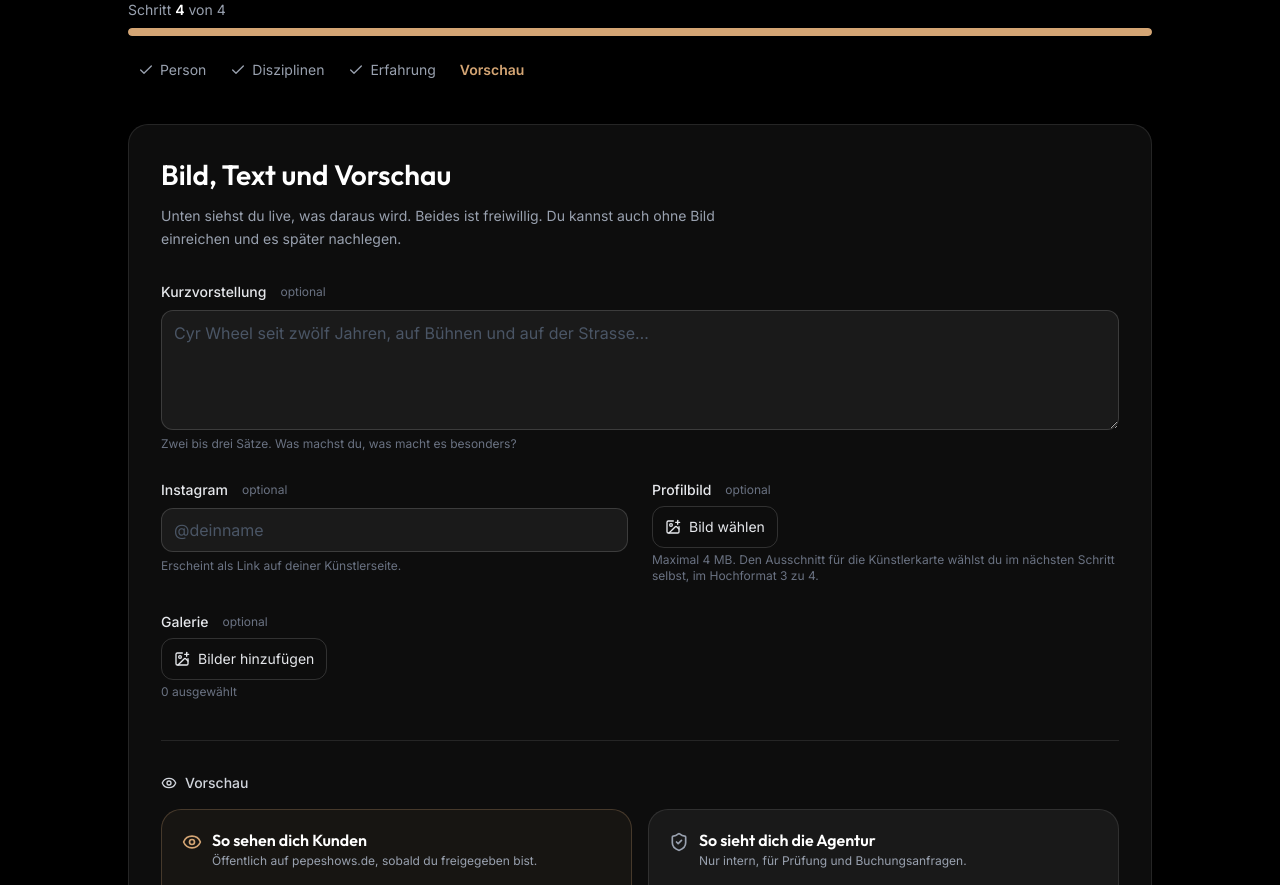
it: ProfileWizard › sperrt das Einreichen, solange eine Pflichtangabe fehlt
Click the button "Person" at (172, 70), box top-left (128, 48), bottom-right (216, 92)
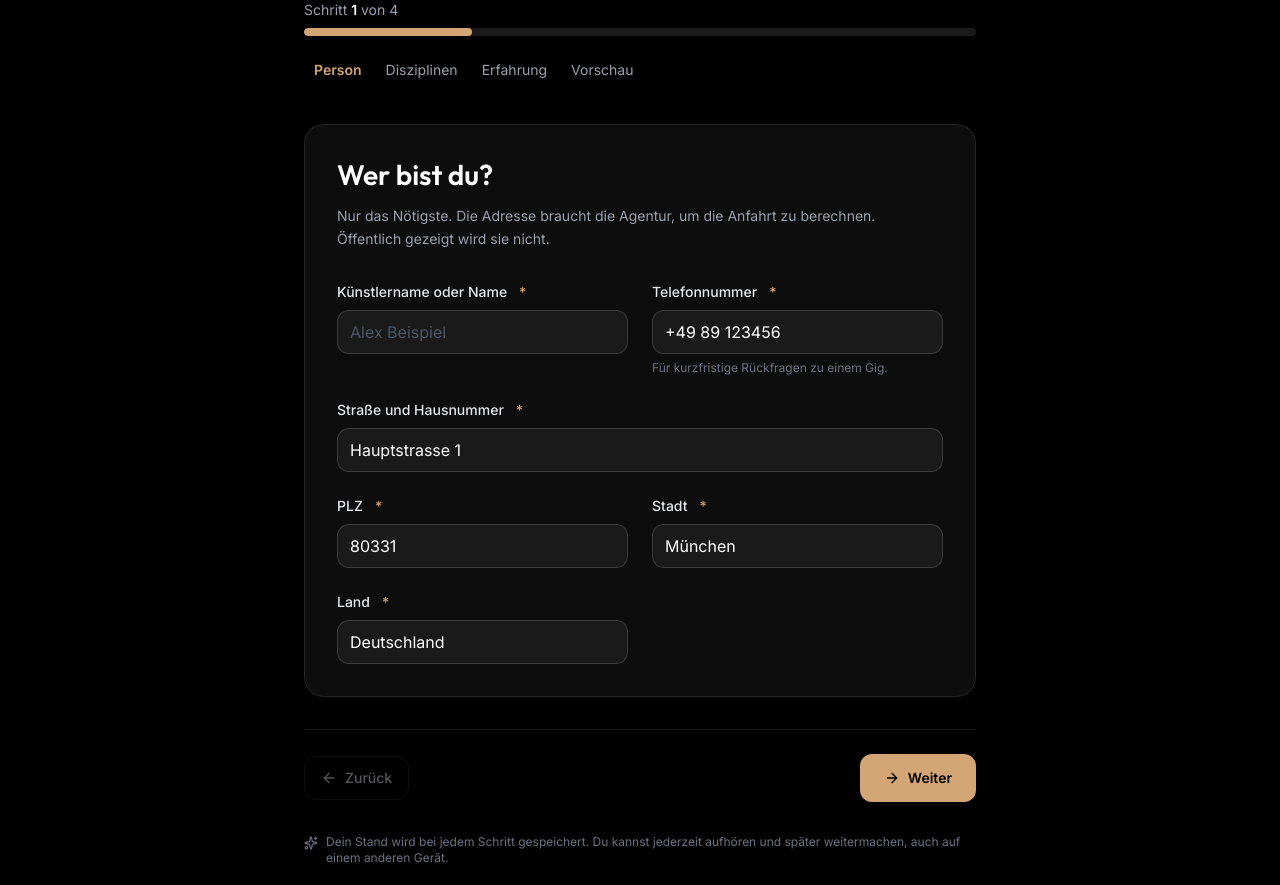
Click the button "Vorschau" at (602, 70), box top-left (561, 48), bottom-right (643, 92)
(page scrolled)
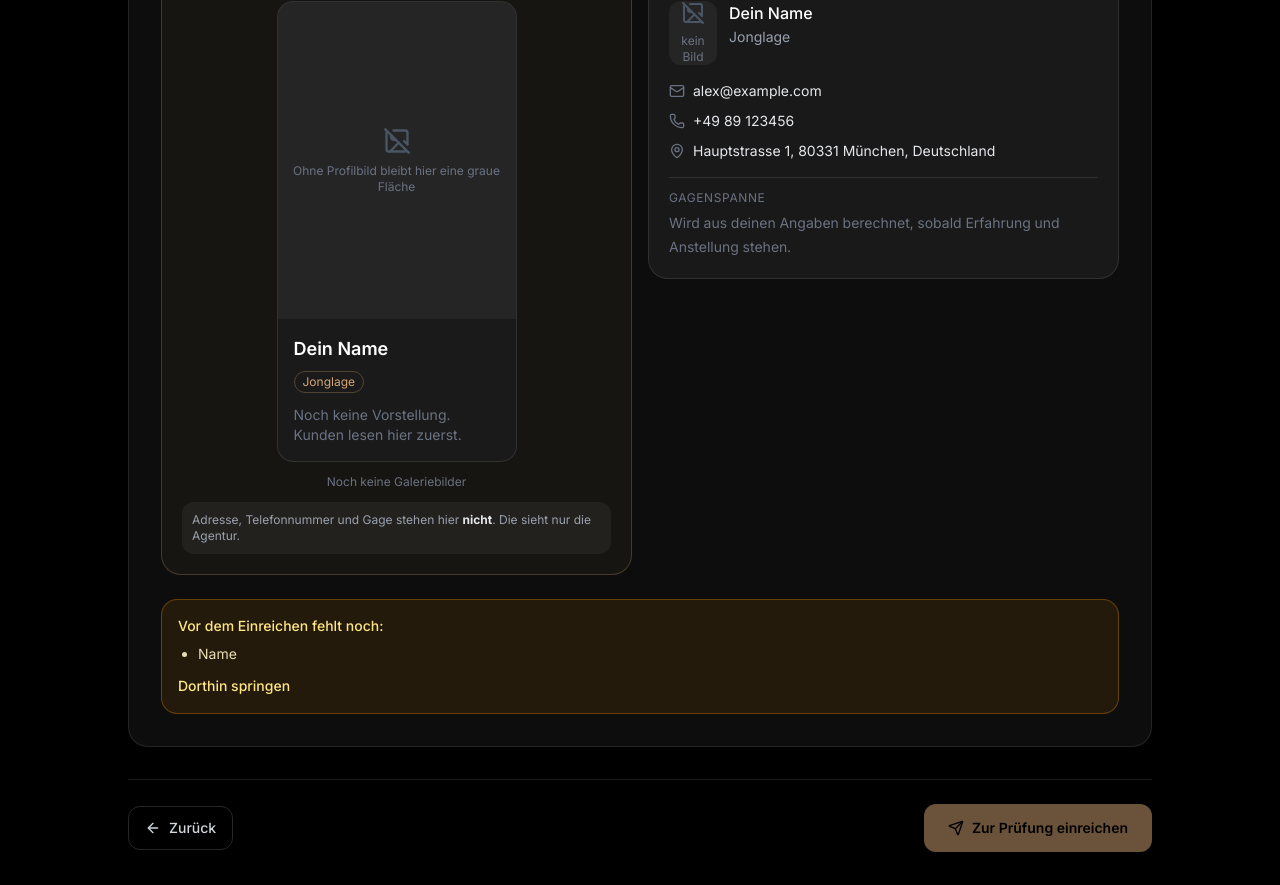
Expected: the list item reads "Name", top-left (198, 645), bottom-right (237, 662)
Expected: the button "Zur Prüfung einreichen" is disabled, top-left (924, 804), bottom-right (1152, 852)
